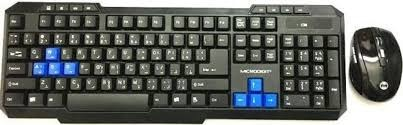keyboard: (5, 0, 349, 125)
mouse: (347, 19, 403, 108)
